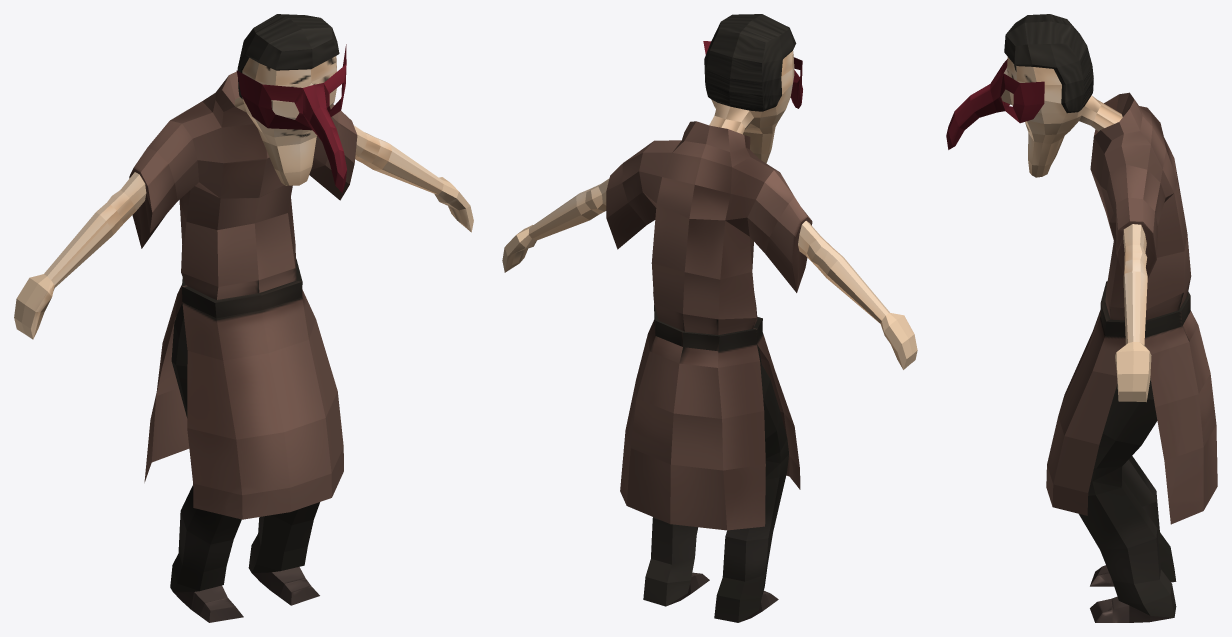
File: Enemy3.FBX
3 views of the same model, side by side, from view 1: azimuth 30°, elevation 25°; view 2: azimuth 150°, elevation 25°; view 3: azimuth 270°, elevation 25° (orthographic). The views are drawn at different scales.
Parts seen in each view (by area): view 1: Box001; view 2: Box001; view 3: Box001.
Part boxes in pixels (x1,y1,x2,y2): Box001: (14, 14, 473, 622); Box001: (502, 14, 917, 622); Box001: (946, 14, 1217, 622).
Bounding box in the file's own units: 125 × 163 × 69.58.
